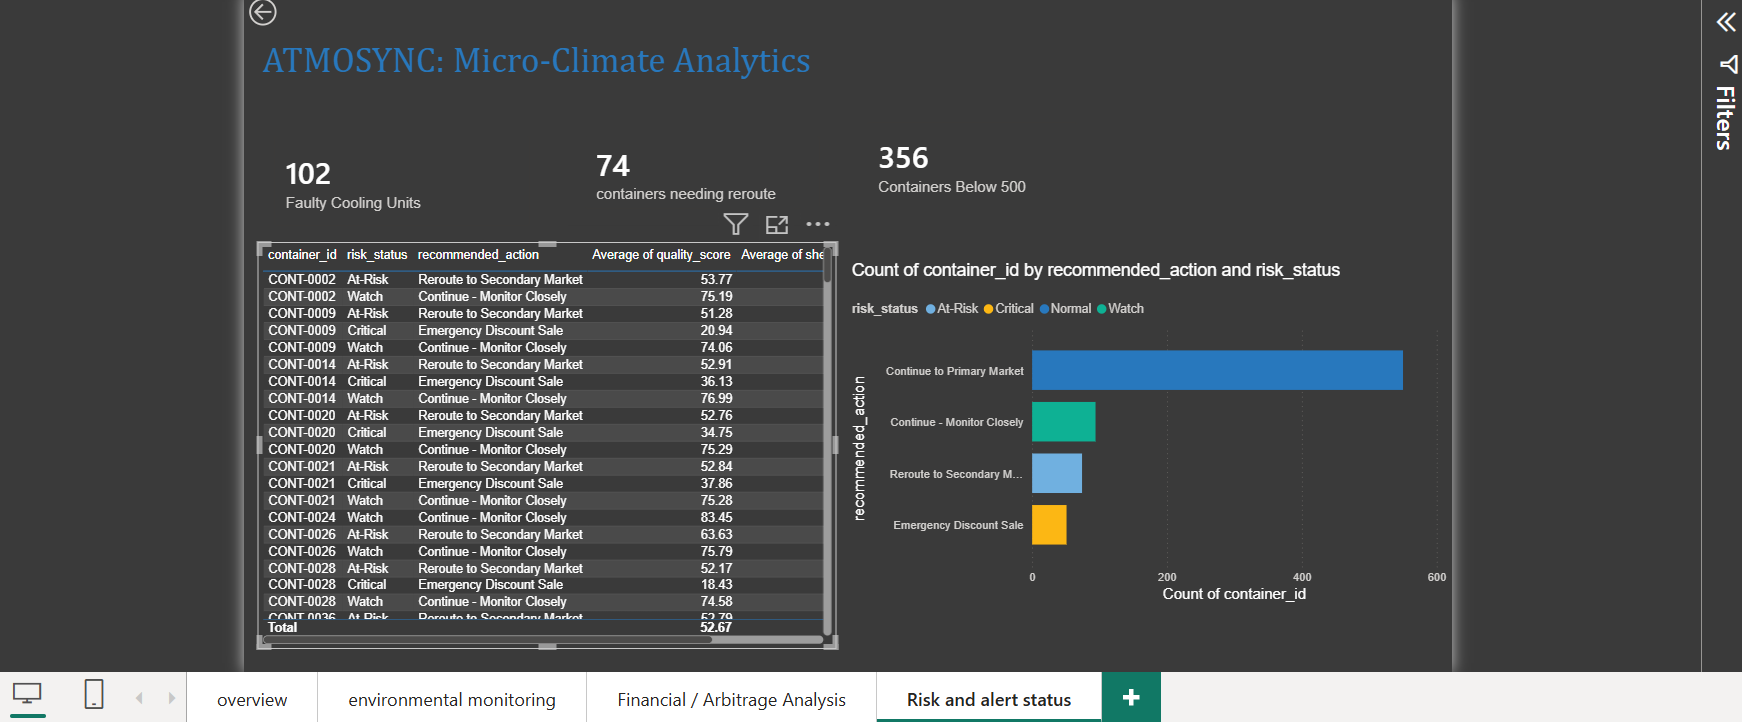

This screenshot's page, from the dashboard's own definition file:
{"tool":"powerbi","page":{"name":"Risk and alert status","canvas":[1280,720],"ordinal":3},"visuals":[{"type":"textbox","box":[14.3,42.9,660.1,77.9],"z":0},{"type":"cardVisual","fields":{"Data":["Count(cleaned_dataset.container_id)"]},"box":[14.3,133.6,307,130.4],"z":1000},{"type":"cardVisual","fields":{"Data":["Count(cleaned_dataset.container_id)"]},"box":[343.6,133.6,284.7,112.9],"z":2000},{"type":"tableEx","fields":{"Values":["cleaned_dataset.container_id","cleaned_dataset.risk_status","cleaned_dataset.recommended_action","Avg(cleaned_dataset.quality_score)","Avg(cleaned_dataset.shelf_life_hours_remaining)"]},"box":[14.3,264,614,431.1],"z":3000},{"type":"actionButton","box":[0,0,100,40],"z":4000},{"type":"barChart","fields":{"Category":["cleaned_dataset.recommended_action"],"Y":["Count(cleaned_dataset.container_id)"],"Series":["cleaned_dataset.risk_status"]},"box":[639.4,283.1,641,367.4],"z":5000},{"type":"cardVisual","fields":{"Data":["Count(cleaned_dataset.container_id)"]},"box":[642.1,119.6,258.1,125.9],"z":6000}]}

Visuals, with their boxes on the page's 1280x720 design canvas (x1, y1, x2, y2). These are canvas units, not pixel positions in the 1742x722 screenshot, which may show the page scaled, cropped or inside an application window:
textbox: {"x1": 14, "y1": 43, "x2": 674, "y2": 121}
cardVisual - Count(cleaned_dataset.container_id): {"x1": 14, "y1": 134, "x2": 321, "y2": 264}
cardVisual - Count(cleaned_dataset.container_id): {"x1": 344, "y1": 134, "x2": 628, "y2": 246}
tableEx - cleaned_dataset.container_id x cleaned_dataset.risk_status: {"x1": 14, "y1": 264, "x2": 628, "y2": 695}
actionButton: {"x1": 0, "y1": 0, "x2": 100, "y2": 40}
barChart - cleaned_dataset.recommended_action x Count(cleaned_dataset.container_id): {"x1": 639, "y1": 283, "x2": 1280, "y2": 650}
cardVisual - Count(cleaned_dataset.container_id): {"x1": 642, "y1": 120, "x2": 900, "y2": 246}
